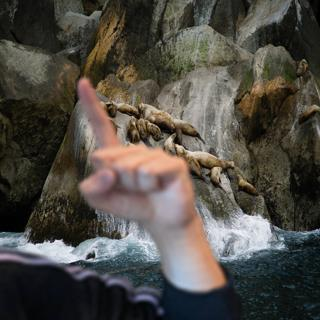IRRITATED: (67, 76, 199, 230)
